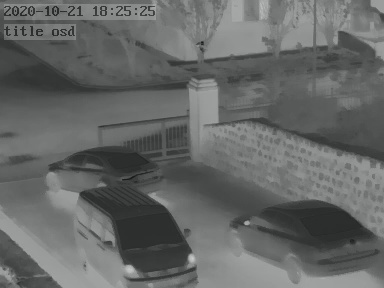vehicle: (220, 204, 379, 285), (69, 193, 195, 286), (41, 146, 168, 195)
